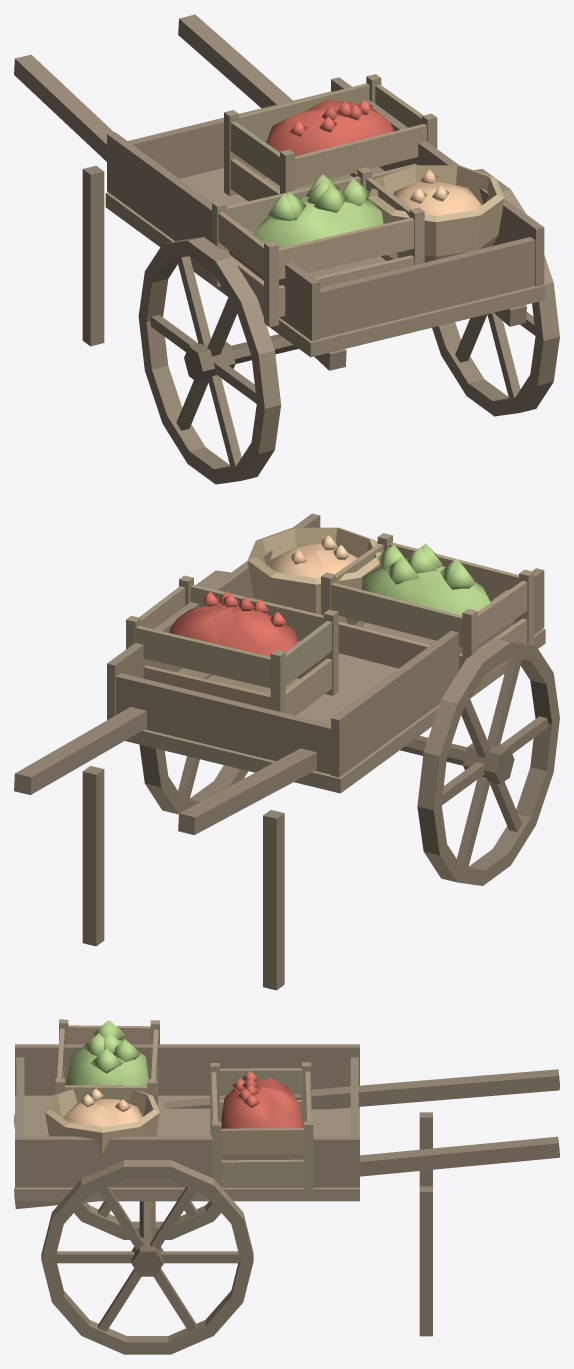
Rendered from SM_BM_BP_Handcart.glb.
3 renders of one model, top to bottom at view 1: azimuth 30°, elevation 25°; view 2: azimuth 150°, elevation 25°; view 3: azimuth 270°, elevation 25°, orthographic. The views are drawn at different scales.
Visible parts, largest first — view 1: SM_BM_BP_Handcart; view 2: SM_BM_BP_Handcart; view 3: SM_BM_BP_Handcart.
Boxes of the visible parts, bbox=[...] form: SM_BM_BP_Handcart: bbox=[14, 14, 559, 484]; SM_BM_BP_Handcart: bbox=[14, 513, 559, 990]; SM_BM_BP_Handcart: bbox=[14, 1019, 559, 1354].
Size of the model in its own units: 1.14 by 1.02 by 2.06.
